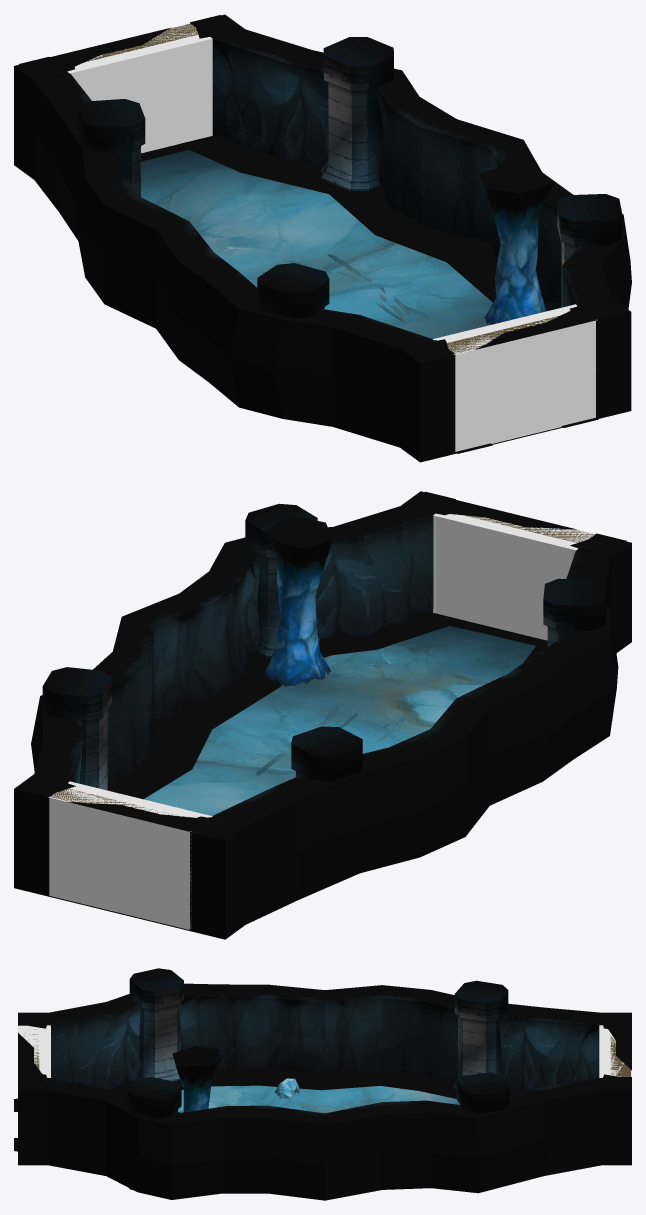
File: Dungeon_033_Road_002.fbx
3 views of the same model, one above another, from view 1: azimuth 30°, elevation 25°; view 2: azimuth 150°, elevation 25°; view 3: azimuth 270°, elevation 25° (orthographic). The views are drawn at different scales.
Parts seen in each view (by area): view 1: Dan1, Dan2, DoorWay_NavMask (1) (×2), Dan1_shadow, Dungeon_033_Pillar_001, Dungeon_011_Object_010, Dun_011_Door_002_old (×2), Dungeon_033_Pillar_001 (3), Dungeon_033_Pillar_001 (1), Dungeon_033_Pillar_001 (2), Dun_011_Door_003_WarpRoom (×2), Dun_011_Door_002; view 2: Dan1, DoorWay_NavMask (1) (×2), Dan2, Dan1_shadow, Dungeon_011_Object_010, Dungeon_033_Pillar_001, Dun_011_Door_002_old (×2), Dungeon_033_Pillar_001 (1), Dungeon_033_Pillar_001 (2), Dungeon_033_Pillar_001 (3), Dun_011_Door_003_WarpRoom, Dun_011_Door_002_shadow; view 3: Dan1, Dungeon_033_Pillar_001 (2), Dan2, Dan1_shadow, Dungeon_033_Pillar_001 (3), Dun_011_Door_002_old (×2), Dungeon_011_Object_010, Dungeon_033_Pillar_001 (1), Dungeon_033_Pillar_001, DoorWay_NavMask (1) (×2), Dun_011_Door_003_WarpRoom.
Part boxes in pixels (box(x1,y1,x2,y2)): Dan1: box(14, 14, 631, 462); Dan2: box(141, 150, 496, 338); DoorWay_NavMask (1) (×2): box(67, 23, 596, 451); Dan1_shadow: box(178, 135, 598, 453); Dungeon_033_Pillar_001: box(321, 37, 393, 190); Dungeon_011_Object_010: box(478, 165, 554, 324); Dun_011_Door_002_old (×2): box(19, 15, 626, 361); Dungeon_033_Pillar_001 (3): box(78, 99, 145, 196); Dungeon_033_Pillar_001 (1): box(557, 194, 622, 307); Dungeon_033_Pillar_001 (2): box(257, 263, 329, 318); Dun_011_Door_003_WarpRoom (×2): box(86, 23, 560, 353); Dun_011_Door_002: box(408, 298, 625, 453); Dan1: box(14, 491, 631, 939); DoorWay_NavMask (1) (×2): box(48, 513, 595, 929); Dan2: box(144, 626, 535, 815); Dan1_shadow: box(107, 610, 547, 799); Dungeon_011_Object_010: box(264, 515, 332, 686); Dungeon_033_Pillar_001: box(42, 667, 111, 790); Dun_011_Door_002_old (×2): box(19, 491, 626, 838); Dungeon_033_Pillar_001 (1): box(245, 503, 319, 657); Dungeon_033_Pillar_001 (2): box(543, 578, 606, 646); Dungeon_033_Pillar_001 (3): box(291, 726, 363, 873); Dun_011_Door_003_WarpRoom: box(465, 515, 594, 542); Dun_011_Door_002_shadow: box(450, 620, 540, 645); Dan1: box(18, 983, 631, 1200); Dungeon_033_Pillar_001 (2): box(129, 968, 183, 1081); Dan2: box(178, 1085, 459, 1113); Dan1_shadow: box(14, 1067, 526, 1151); Dungeon_033_Pillar_001 (3): box(452, 980, 508, 1090); Dun_011_Door_002_old (×2): box(18, 1014, 631, 1088); Dungeon_011_Object_010: box(172, 1046, 221, 1112); Dungeon_033_Pillar_001 (1): box(127, 1077, 181, 1190); Dungeon_033_Pillar_001: box(456, 1072, 509, 1186); DoorWay_NavMask (1) (×2): box(18, 1025, 631, 1077); Dun_011_Door_003_WarpRoom: box(610, 1036, 630, 1076).
Size of what is drawn, in the model's own units: 8.54 by 2.96 by 15.1.
